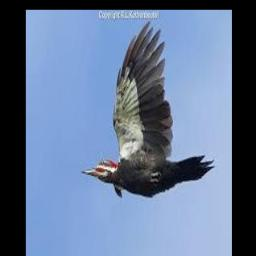Woodpecker: (81, 21, 215, 196)
